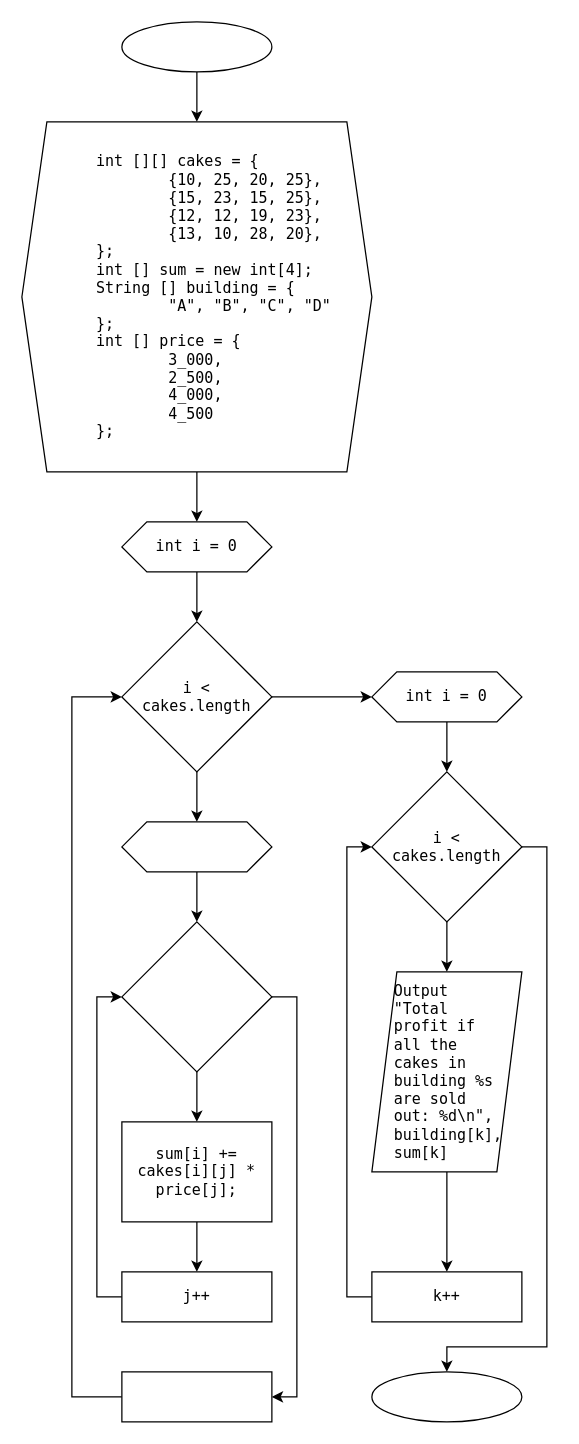
This 579x1444 diagram has some shape labels left out. The centre of each missing label's shape, as x and y in pixels:
"End" goes at pixel 446 1396.
"i++" goes at pixel 196 1396.
"int j = 0" goes at pixel 196 846.
"j < cakes[].length" goes at pixel 196 996.
"Start" goes at pixel 196 46.
